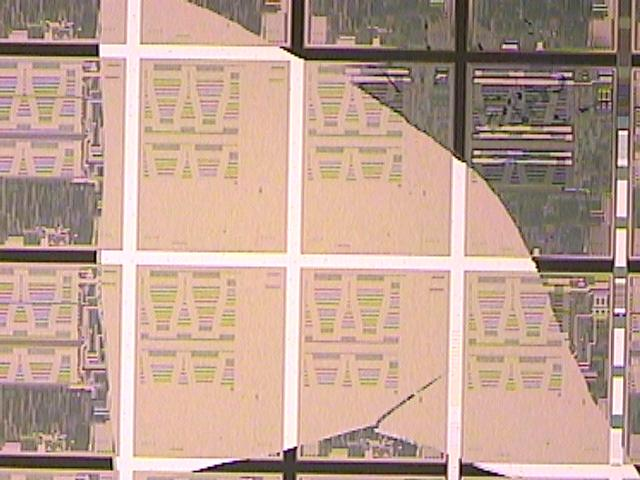BLOCK ETCH: (88, 1, 640, 480)
